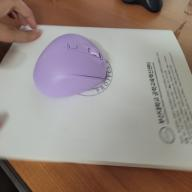mouse: (31, 32, 107, 100)
